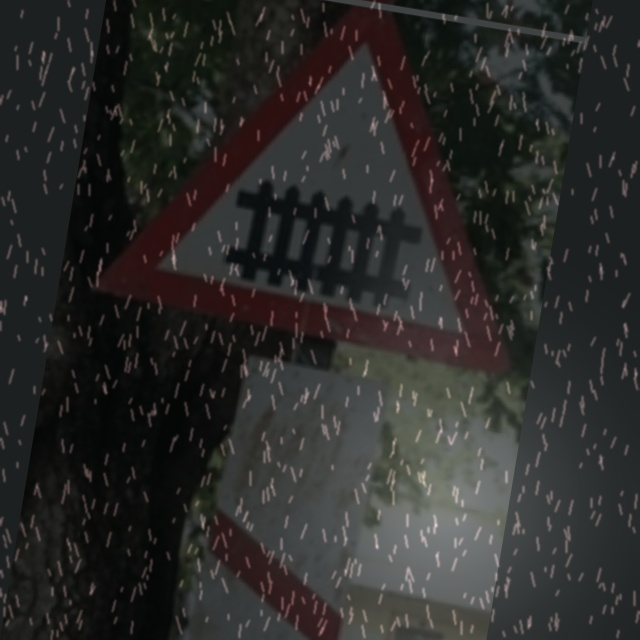Guarded_Level_Crossing: (111, 1, 542, 362)
